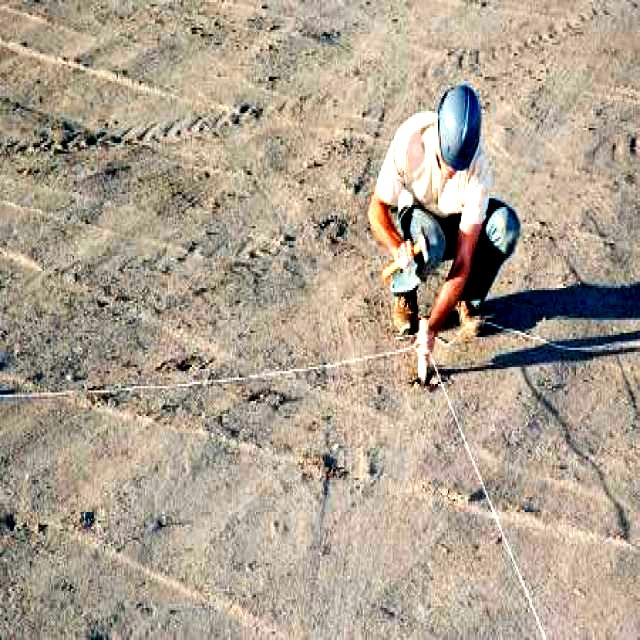hard_hat: (438, 83, 479, 169)
person: (368, 83, 519, 378)
